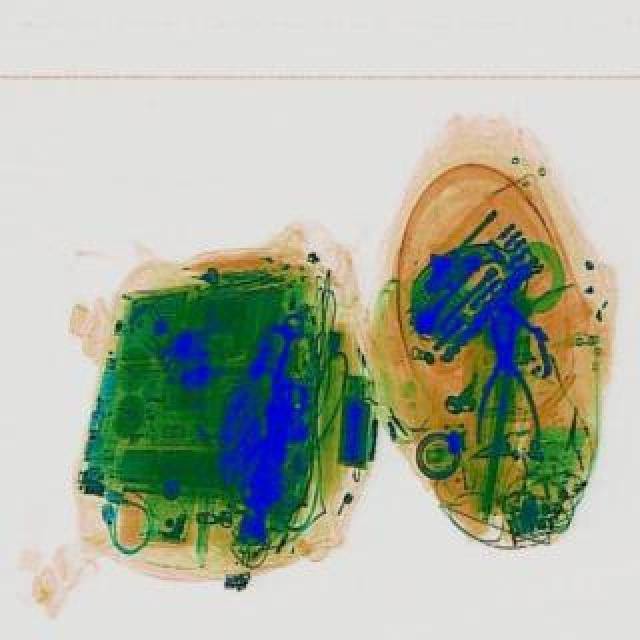wrench: (470, 310, 538, 444)
